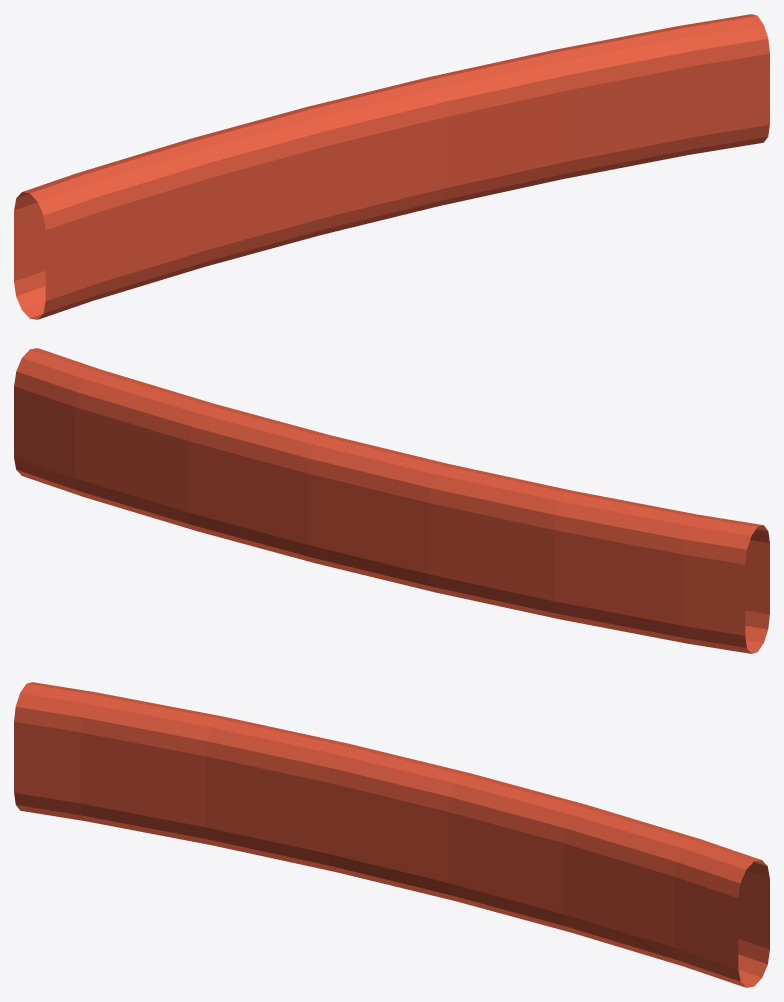
File: border_empty_place.fbx
3 renders of one model, top to bottom at view 1: azimuth 30°, elevation 25°; view 2: azimuth 150°, elevation 25°; view 3: azimuth 330°, elevation 25°, orthographic.
Parts seen in each view (by area): view 1: border_empty_place; view 2: border_empty_place; view 3: border_empty_place.
Boxes of the visible parts, x1,y1,x2,y2 form: border_empty_place: (14,14,769,319); border_empty_place: (14,348,769,653); border_empty_place: (14,682,769,987).
Bounding box in the file's own units: 102 × 16.64 × 10.7.
